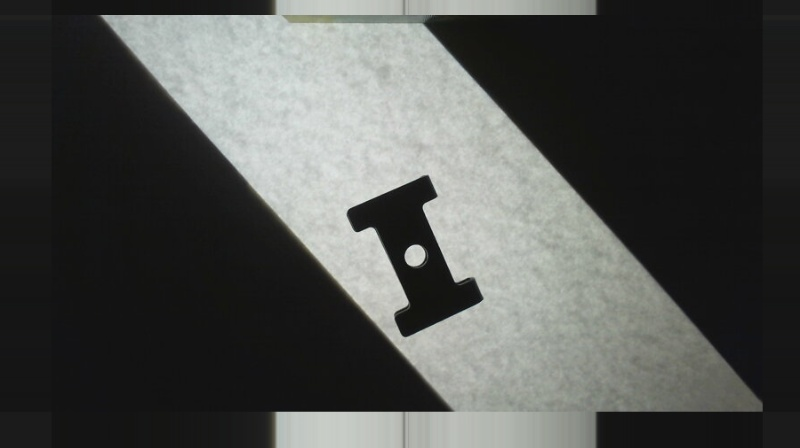O002: (343, 170, 486, 341)
